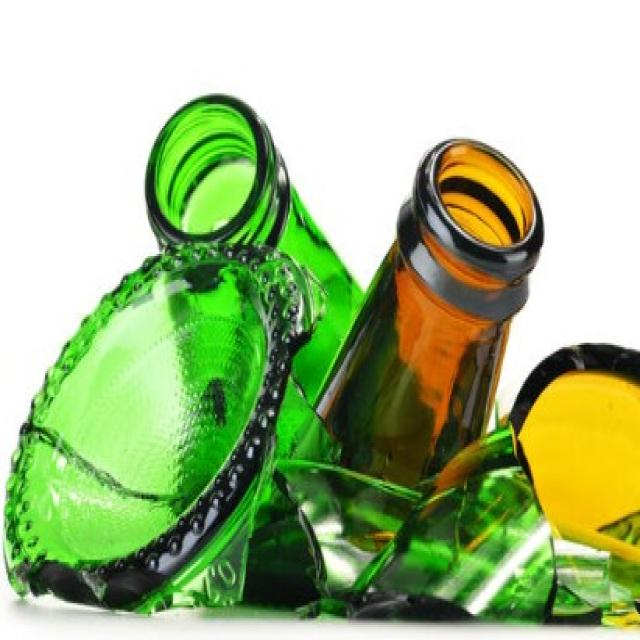electronic: (4, 89, 640, 640)
